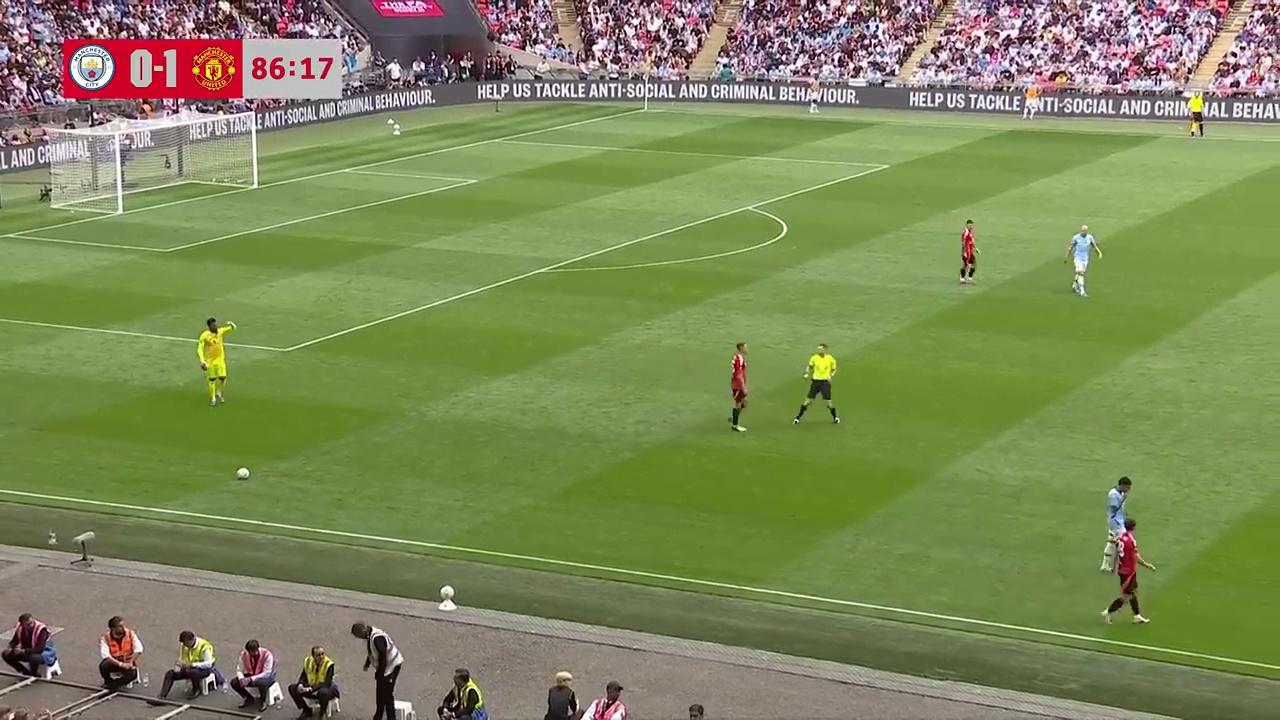ball: (234, 464, 251, 481)
player: (1102, 517, 1155, 625), (1100, 475, 1133, 572), (196, 318, 231, 406), (1067, 226, 1097, 297), (728, 342, 749, 431), (1069, 224, 1102, 264), (959, 219, 979, 284)
referee: (791, 342, 840, 427), (1187, 93, 1206, 139)
